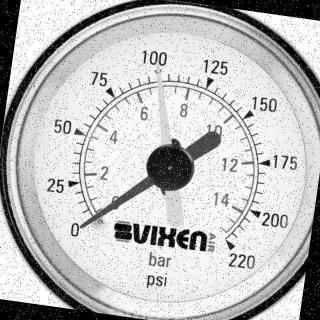gauge: (0, 0, 320, 320), (142, 140, 199, 195), (65, 200, 107, 247), (213, 231, 250, 265), (150, 62, 166, 82), (76, 216, 94, 233)
